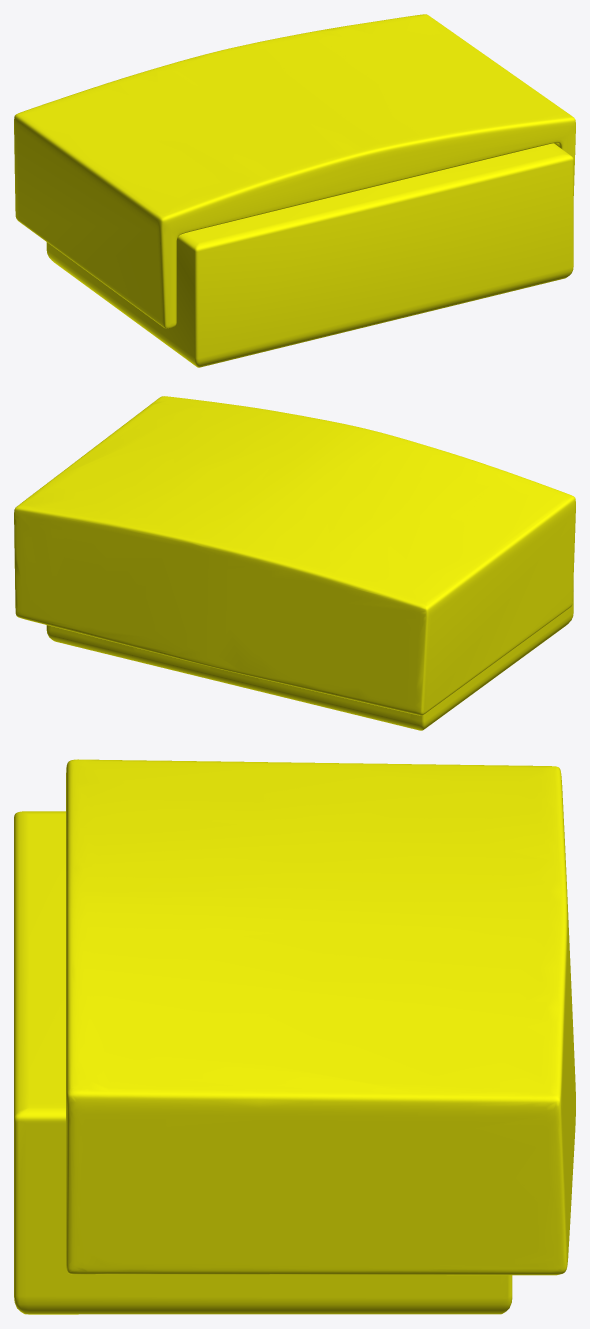
The model's file is designconnected-shagreen-desk-box-10281.optimized.glb.
The picture shows the model from 3 angles, top to bottom: view 1: azimuth 30°, elevation 25°; view 2: azimuth 150°, elevation 25°; view 3: azimuth 270°, elevation 25°; orthographic projection. The views are drawn at different scales.
Visible parts, largest first — view 1: Shagreen_desk_box; view 2: Shagreen_desk_box; view 3: Shagreen_desk_box.
Boxes of the visible parts, x1,y1,x2,y2 form: Shagreen_desk_box: [14, 14, 575, 367]; Shagreen_desk_box: [14, 396, 575, 730]; Shagreen_desk_box: [14, 759, 575, 1314].
Size of the model in its own units: 0.149 by 0.0556 by 0.1052.
